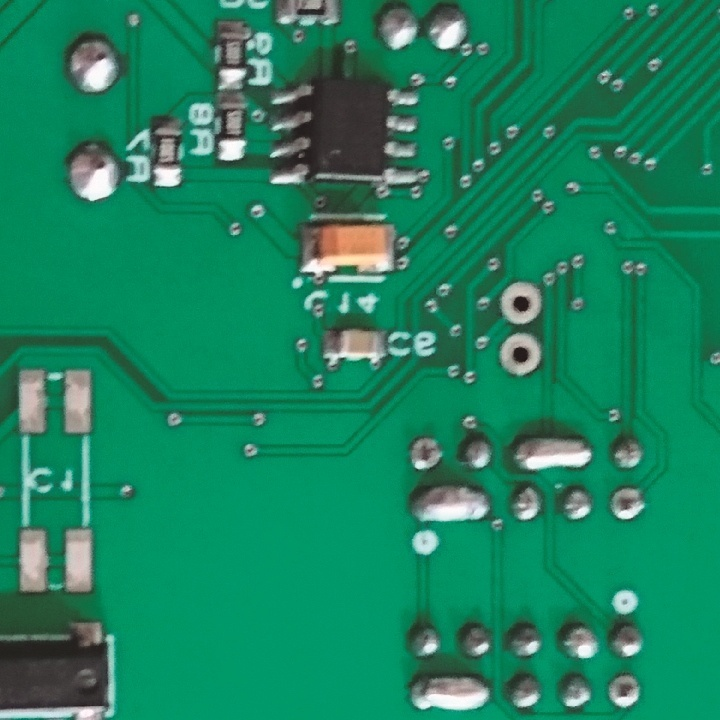F: (497, 332, 542, 380), (499, 283, 543, 324), (607, 672, 642, 708), (407, 435, 444, 469), (610, 487, 644, 522)
P: (410, 483, 489, 529), (409, 669, 488, 715), (512, 431, 589, 473)
